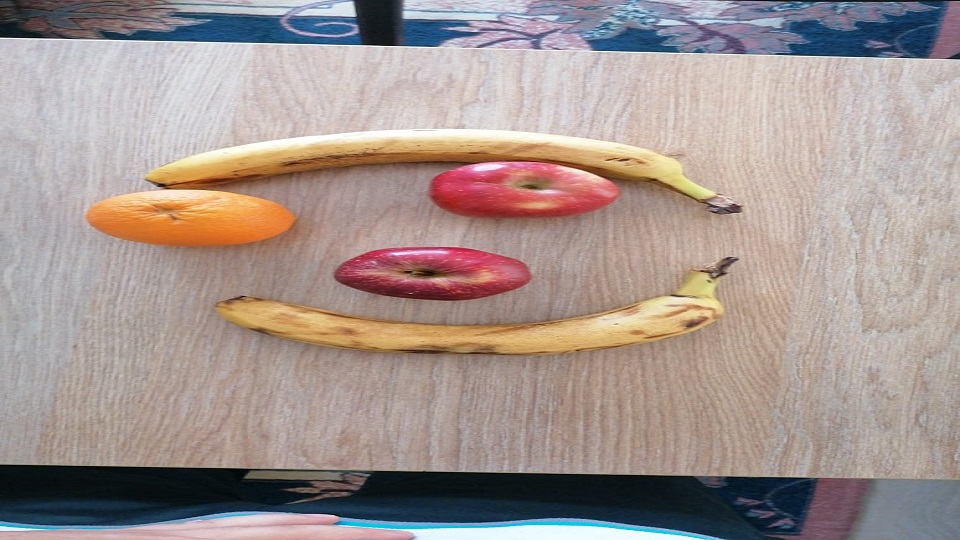elma: (429, 160, 621, 220), (331, 246, 531, 302)
muz: (145, 127, 733, 194), (215, 286, 726, 356)
portakal: (84, 189, 297, 247)
